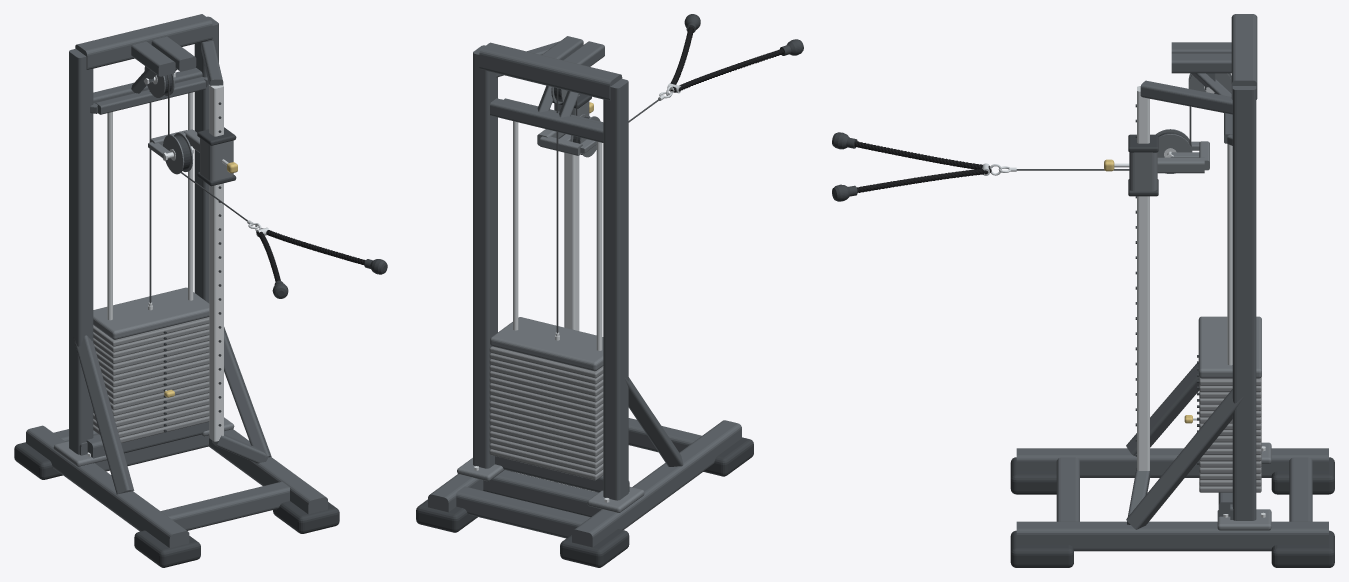
File: face_pull_station.glb
The picture shows the model from 3 angles, left to right: view 1: azimuth 30°, elevation 25°; view 2: azimuth 150°, elevation 25°; view 3: azimuth 270°, elevation 25°; orthographic projection. The views are drawn at different scales.
Parts seen in each view (by area): view 1: Fixed_Frame, Fixed_Chrome, Fixed_Rubber, Stack lifting carriage, Head_height_carriage_Arm, Weight_plate_18, Weight_plate_16, Weight_plate_17, Weight_plate_15, Weight_plate_14, Weight_plate_13, Weight_plate_12 (+15 smaller); view 2: Fixed_Frame, Fixed_Chrome, Fixed_Rubber, Stack lifting carriage, Fixed_Arm, Head_height_carriage_Arm, Weight_plate_18, Weight_plate_15, Weight_plate_16, Weight_plate_13, Weight_plate_14, Weight_plate_17 (+13 smaller); view 3: Fixed_Frame, Fixed_Chrome, Fixed_Rubber, Head_height_carriage_Arm, Stack lifting carriage, Fixed_Arm, Front_high_pulley_Arm, Head_height_carriage_Rubber.
Boxes of the visible parts, <box> form: Fixed_Frame: <box>26,14,327,547</box>; Fixed_Chrome: <box>87,72,223,456</box>; Fixed_Rubber: <box>14,102,339,567</box>; Stack lifting carriage: <box>93,287,209,339</box>; Head_height_carriage_Arm: <box>148,129,233,180</box>; Weight_plate_18: <box>93,317,209,346</box>; Weight_plate_16: <box>93,329,209,358</box>; Weight_plate_17: <box>93,323,209,352</box>; Weight_plate_15: <box>94,335,209,363</box>; Weight_plate_14: <box>96,341,209,369</box>; Weight_plate_13: <box>98,346,209,375</box>; Weight_plate_12: <box>100,352,209,381</box>; Fixed_Frame: <box>428,36,741,547</box>; Fixed_Chrome: <box>474,95,609,502</box>; Fixed_Rubber: <box>416,437,753,567</box>; Stack lifting carriage: <box>490,317,603,371</box>; Fixed_Arm: <box>457,458,644,512</box>; Head_height_carriage_Arm: <box>537,101,596,155</box>; Weight_plate_18: <box>489,346,603,378</box>; Weight_plate_15: <box>489,365,603,396</box>; Weight_plate_16: <box>489,359,603,390</box>; Weight_plate_13: <box>489,377,603,408</box>; Weight_plate_14: <box>489,371,603,402</box>; Weight_plate_17: <box>489,353,603,384</box>; Fixed_Frame: <box>1016,14,1328,551</box>; Fixed_Chrome: <box>1137,86,1265,517</box>; Fixed_Rubber: <box>1010,104,1334,567</box>; Head_height_carriage_Arm: <box>1129,141,1209,191</box>; Stack lifting carriage: <box>1198,316,1261,378</box>; Fixed_Arm: <box>1217,442,1271,530</box>; Front_high_pulley_Arm: <box>1156,129,1192,173</box>; Head_height_carriage_Rubber: <box>1128,134,1158,196</box>.
Bounding box in the file's own units: 0.96 × 2.23 × 2.14.
8 materials, 1 textured.
